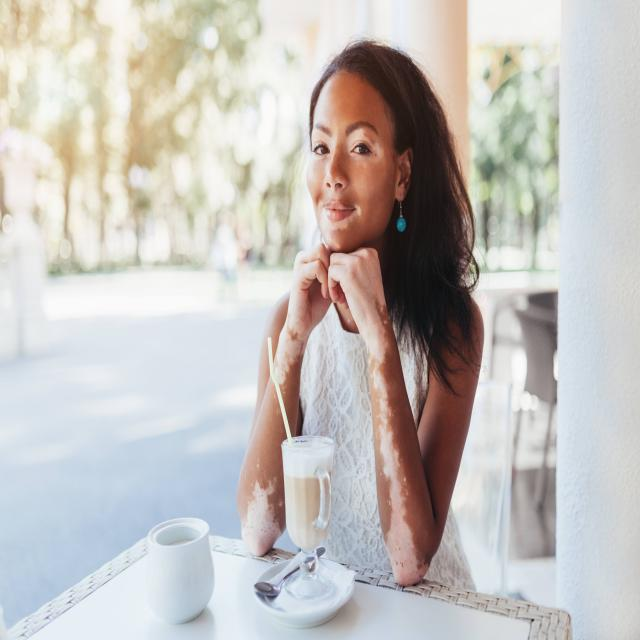vitiligo: (236, 108, 426, 583)
